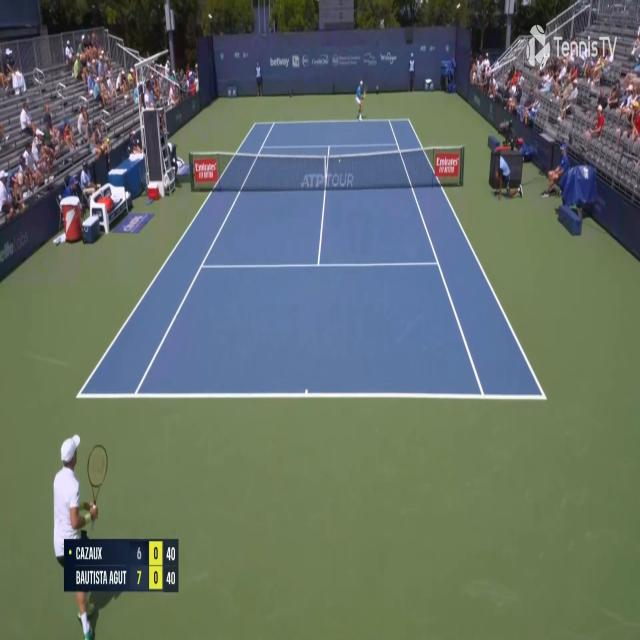tennis-player: (55, 431, 110, 560), (354, 77, 365, 123)
